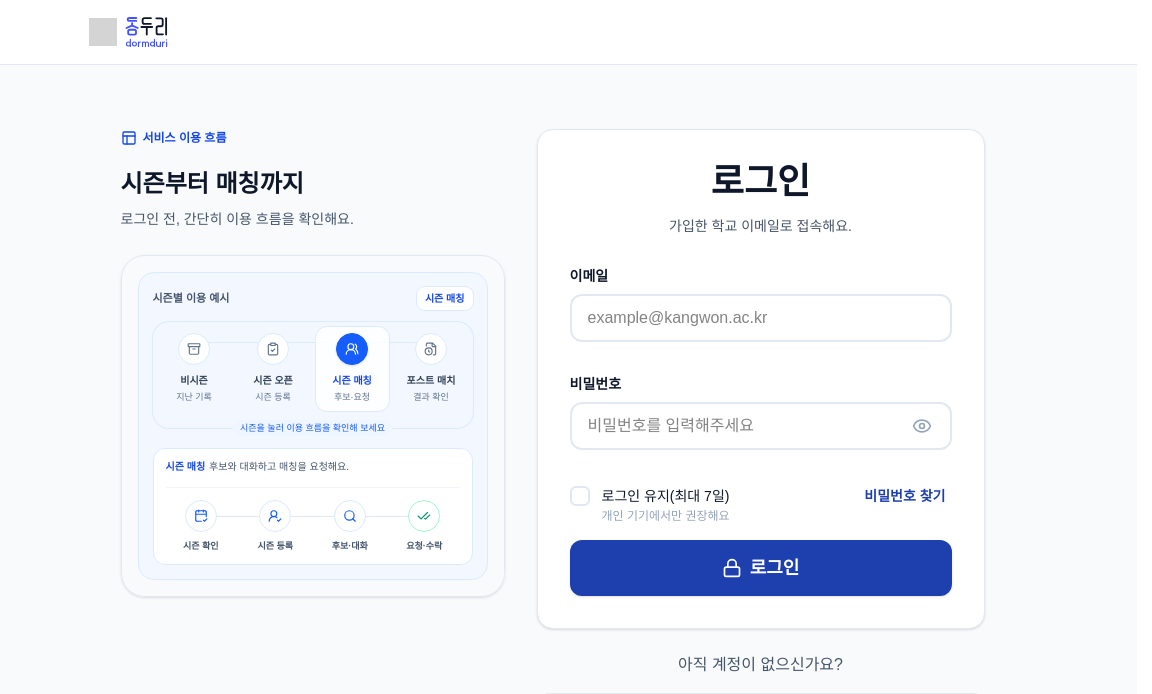
Test: LoginPageClient › 계정 잠금 시 잠금 안내와 타이머를 표시한다
Type "test@kangwon.ac.kr" into the field labelled "이메일" at (760, 318), box [570,294,952,342]
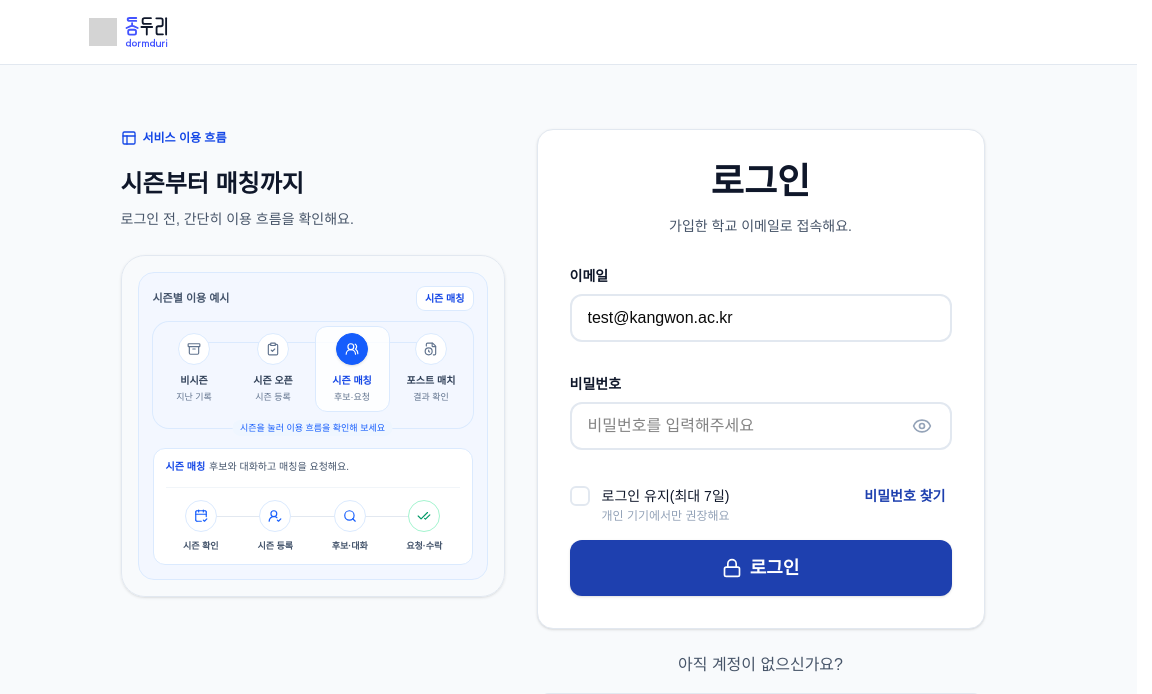
Type "wrongpass" into the password field labelled "비밀번호" at (760, 426), box [570,402,952,450]
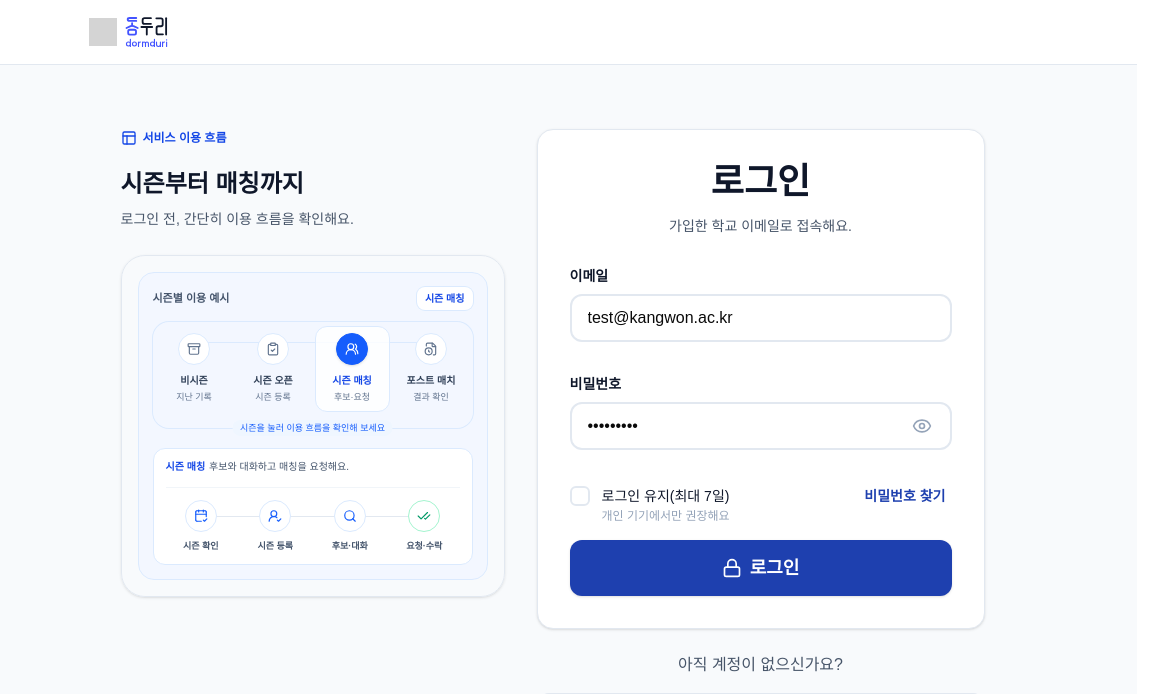
Click the button "로그인" at (760, 568), box [570,540,952,596]
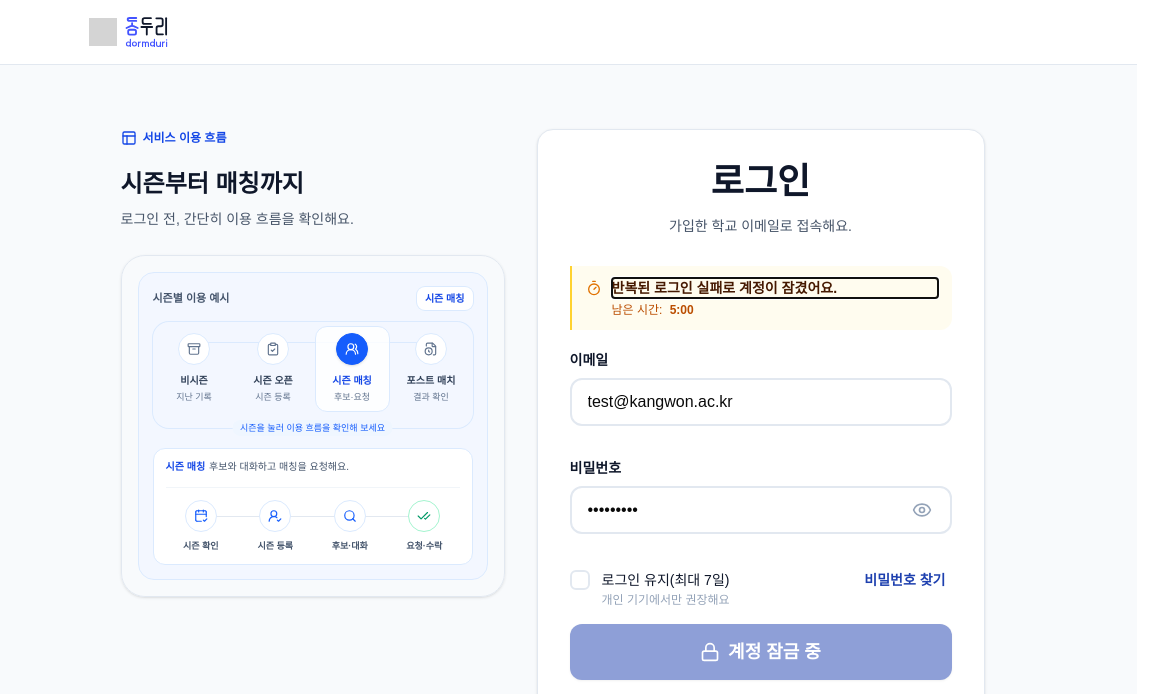
Expected: the text "반복된 로그인 실패로 계정이 잠겼어요." is shown, [612,280,837,296]
Expected: the text "남은 시간: 5:00" is shown, [612,303,694,317]
Expected: the button "계정 잠금 중" is disabled, [570,624,952,680]
